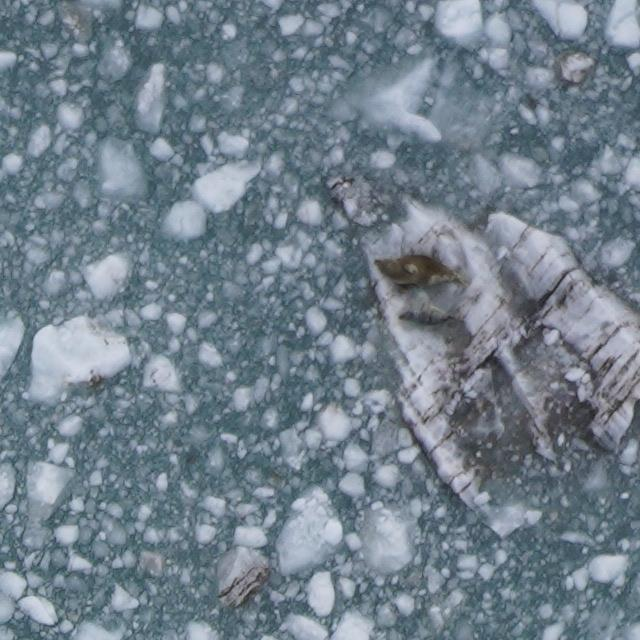seal: (370, 251, 476, 294), (394, 302, 470, 329)
